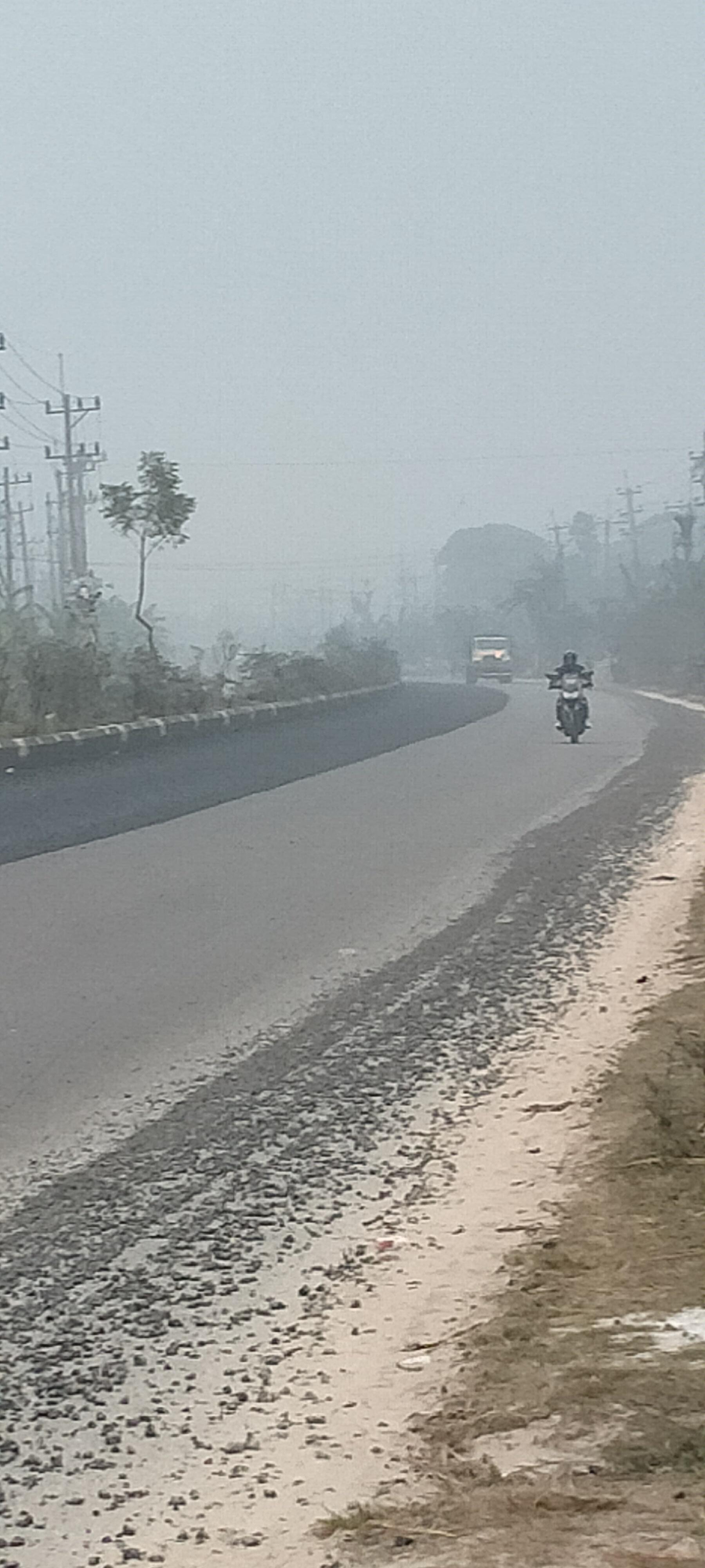Bike: (532, 647, 613, 745)
Truck: (455, 624, 530, 696)
